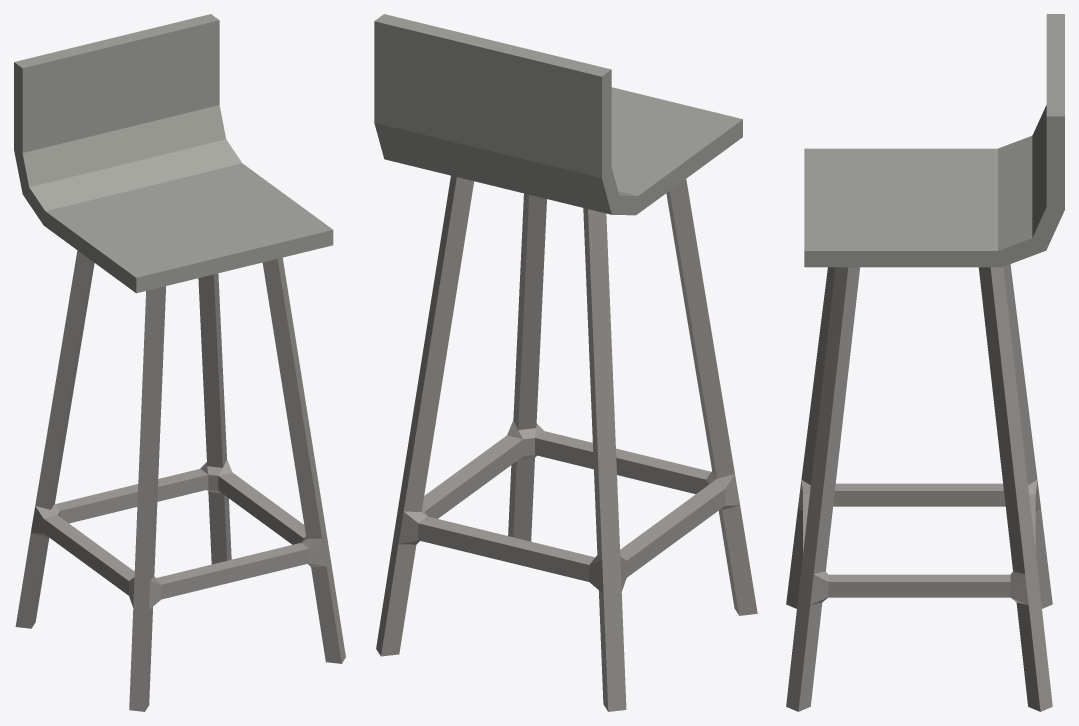
File: SM_Props_Interior_Shop_Restaurant_Chair_Tall_02.fbx
The picture shows the model from 3 angles, left to right: view 1: azimuth 30°, elevation 25°; view 2: azimuth 150°, elevation 25°; view 3: azimuth 270°, elevation 25°; orthographic projection. The views are drawn at different scales.
Visible parts, largest first — view 1: SM_Props_Interior_Shop_Restaurant_Chair_Tall_02; view 2: SM_Props_Interior_Shop_Restaurant_Chair_Tall_02; view 3: SM_Props_Interior_Shop_Restaurant_Chair_Tall_02.
Boxes of the visible parts, x1,y1,x2,y2 form: SM_Props_Interior_Shop_Restaurant_Chair_Tall_02: [14, 14, 345, 711]; SM_Props_Interior_Shop_Restaurant_Chair_Tall_02: [374, 14, 757, 711]; SM_Props_Interior_Shop_Restaurant_Chair_Tall_02: [786, 14, 1064, 711].
Size of the model in its own units: 44.01 by 108 by 46.01.
